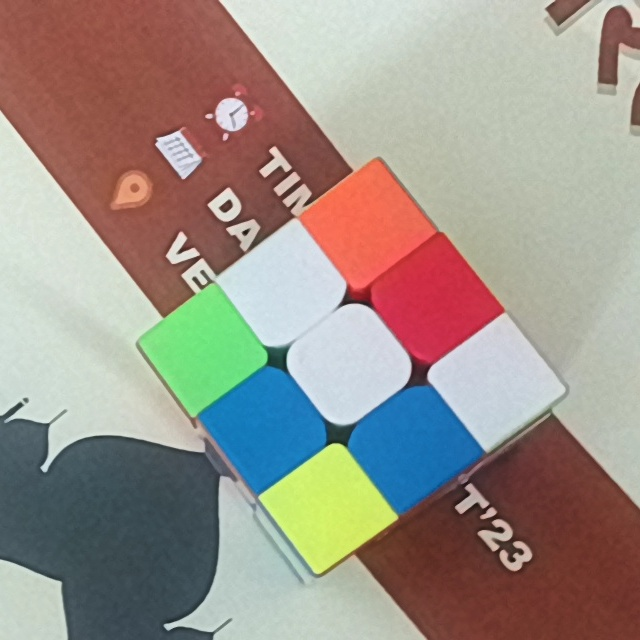tile: (382, 409, 449, 483), (330, 190, 400, 260), (319, 327, 385, 400), (467, 346, 533, 419), (232, 391, 297, 465), (168, 319, 243, 380), (400, 265, 466, 333), (297, 474, 362, 540), (253, 255, 321, 316)
